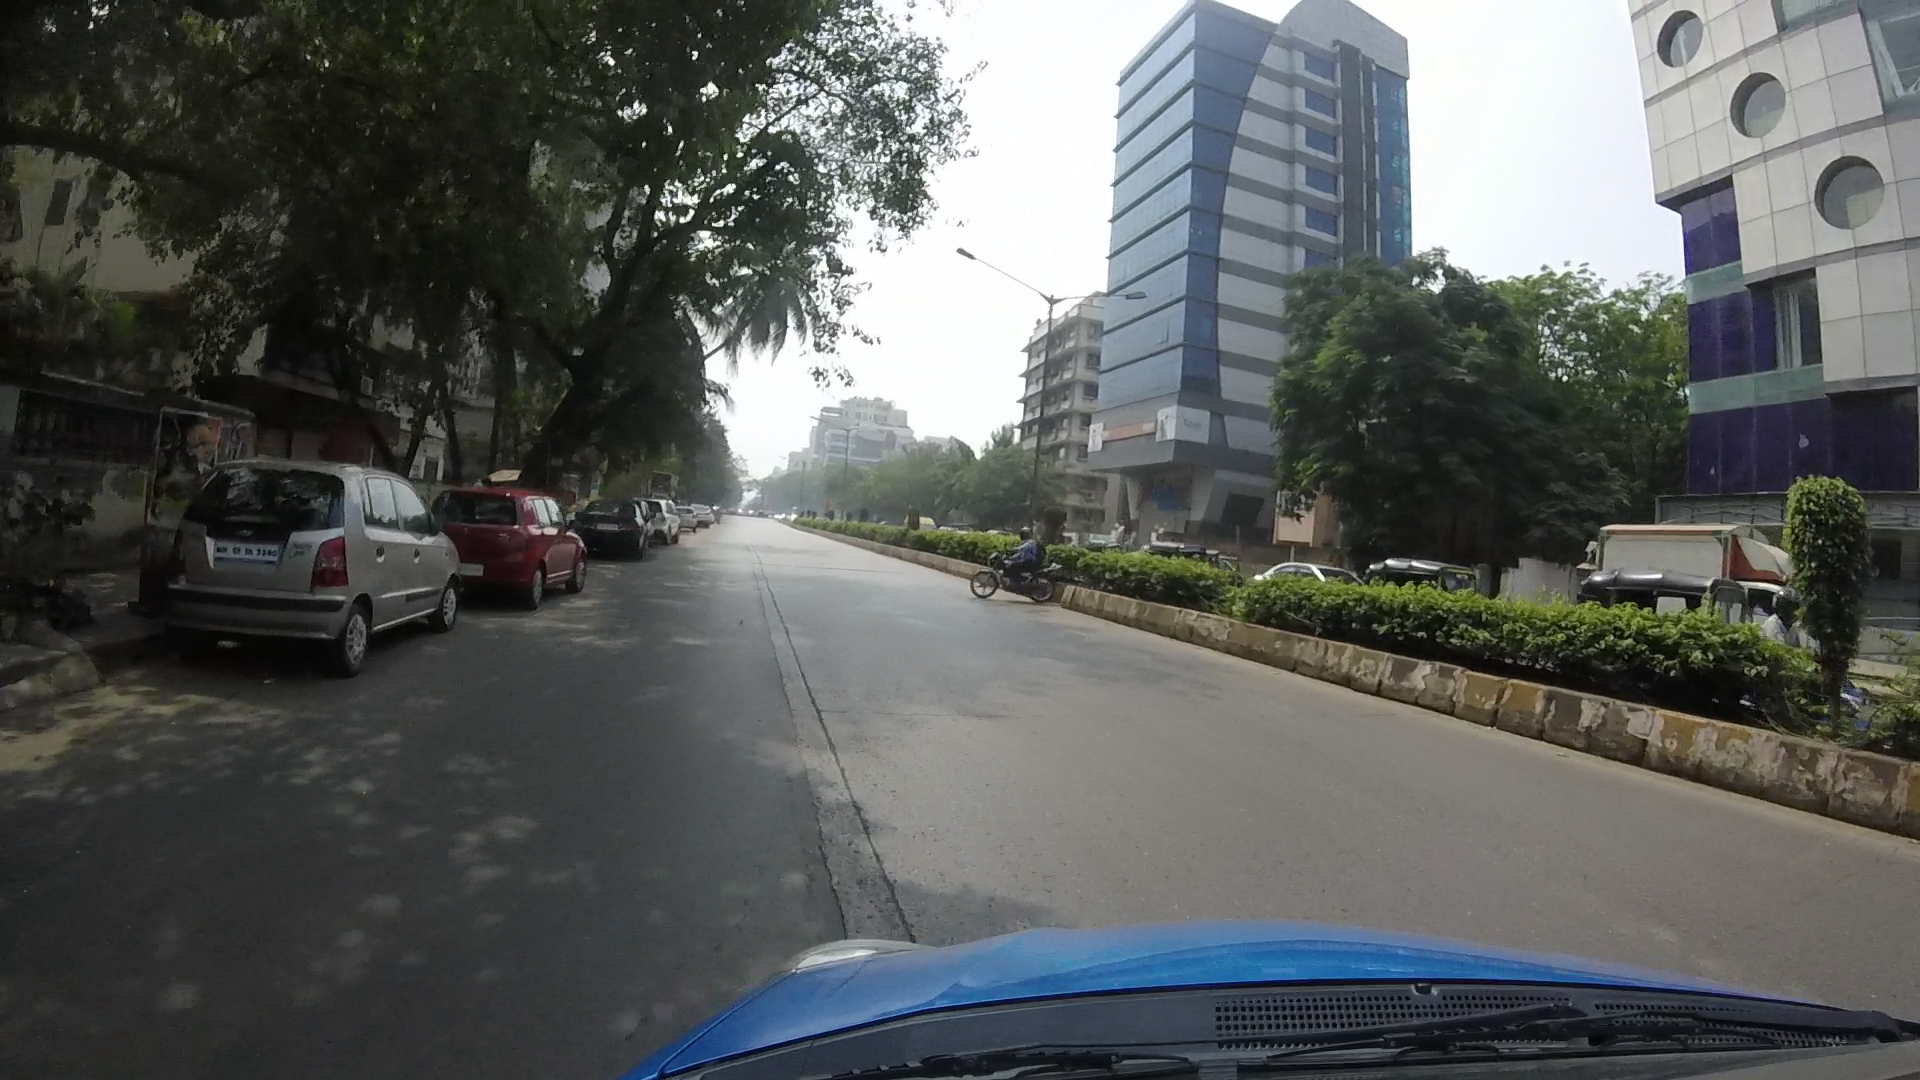car: (187, 454, 462, 669), (436, 491, 578, 603)
